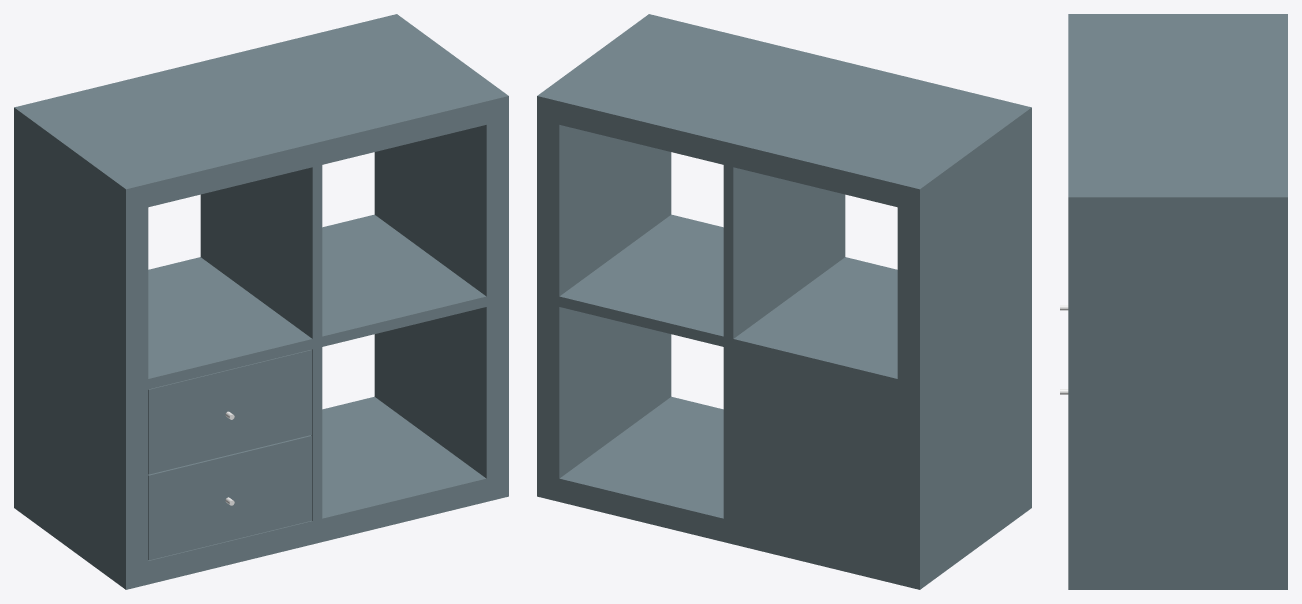
File: KALLAX_Shelf_with_Drawer_glossy_Turquoise.obj
The picture shows the model from 3 angles, left to right: view 1: azimuth 30°, elevation 25°; view 2: azimuth 150°, elevation 25°; view 3: azimuth 270°, elevation 25°; orthographic projection.
Visible parts, largest first — view 1: Generic_Models; view 2: Generic_Models; view 3: Generic_Models.
Part boxes in pixels (box(x1,y1,x2,y2)): Generic_Models: box(14, 14, 508, 589); Generic_Models: box(537, 14, 1031, 589); Generic_Models: box(1060, 14, 1287, 589).
Bounding box in the file's own units: 770 × 770 × 404.
